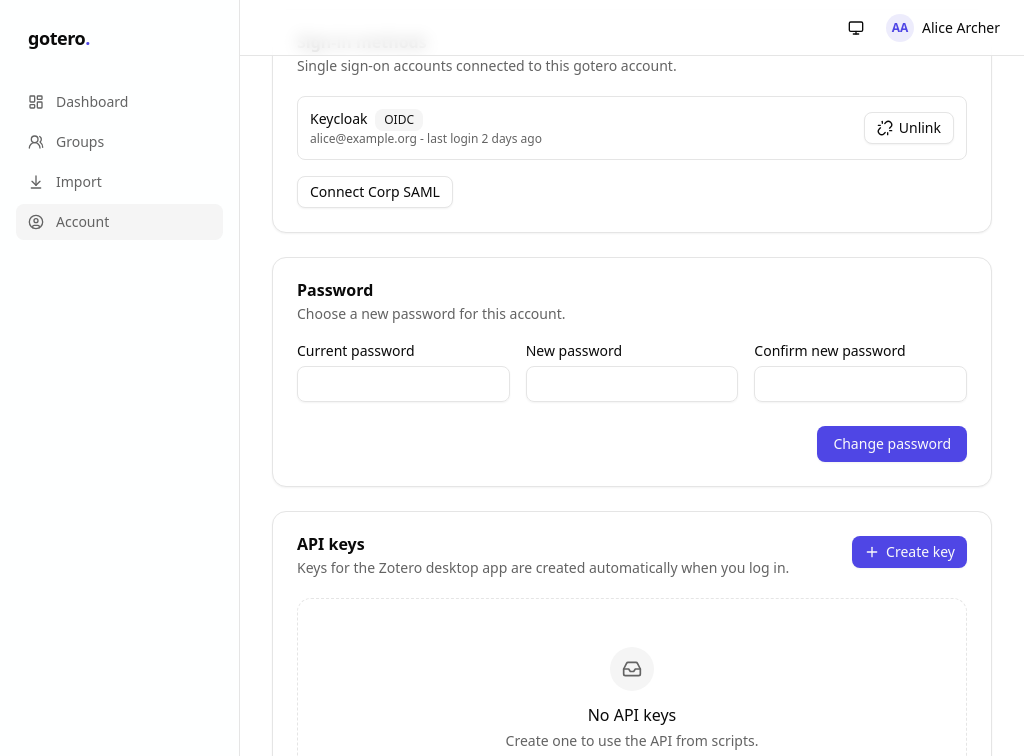
Test: API keys › requires matching passwords when changing the password
The image size is (1024, 756).
(page scrolled)
Type "password" into the password field labelled "Current password".
click(403, 384); type("password")  # box [297,366,510,402]
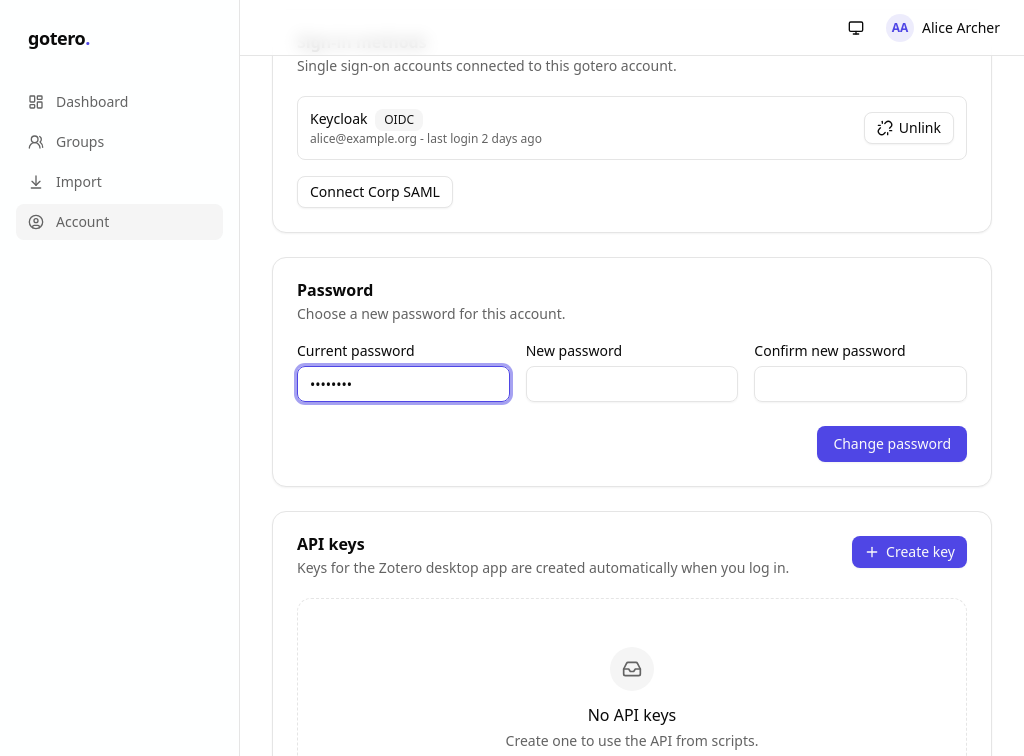
Type "longenough1" into the password field labelled "New password".
click(632, 384); type("longenough1")  # box [526,366,738,402]
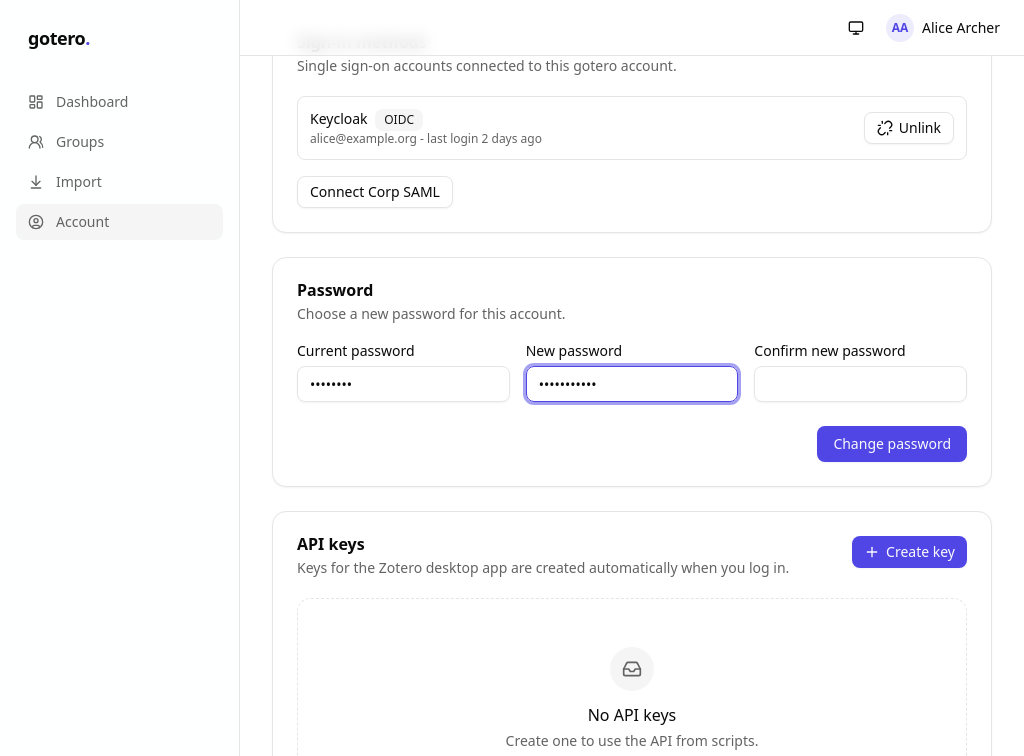
Type "different1" into the password field labelled "Confirm new password".
click(861, 384); type("different1")  # box [754,366,967,402]
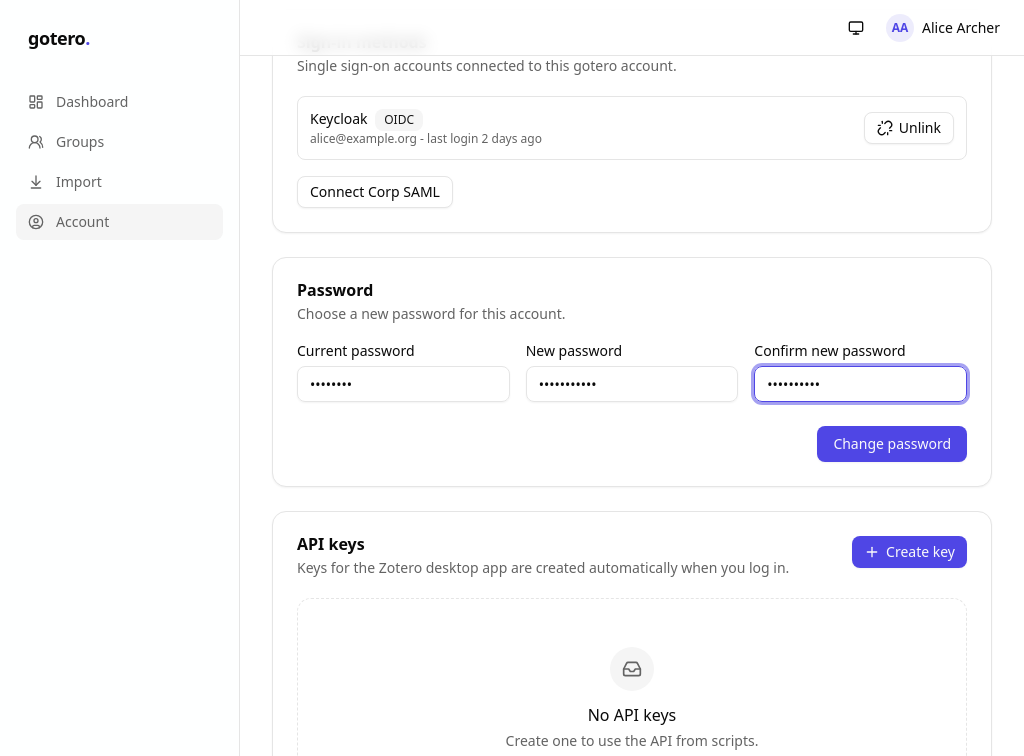
Click the button "Change password".
click(892, 444)  # box [817,426,967,462]
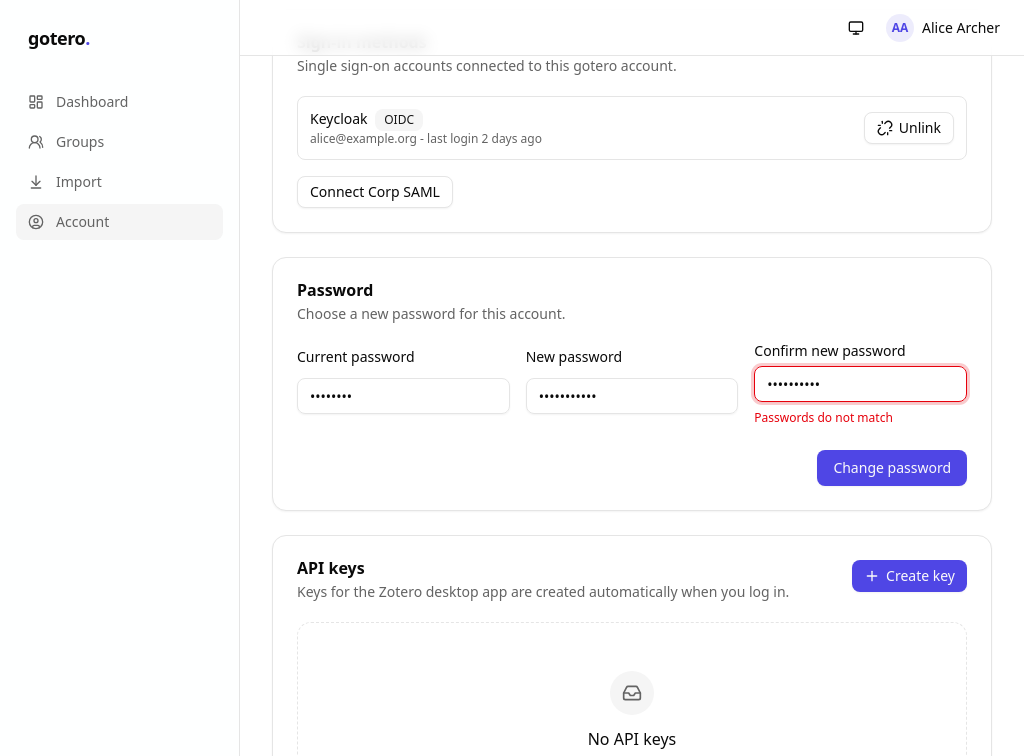
Check: the text "Passwords do not match" is shown, box [754,409,893,426]
